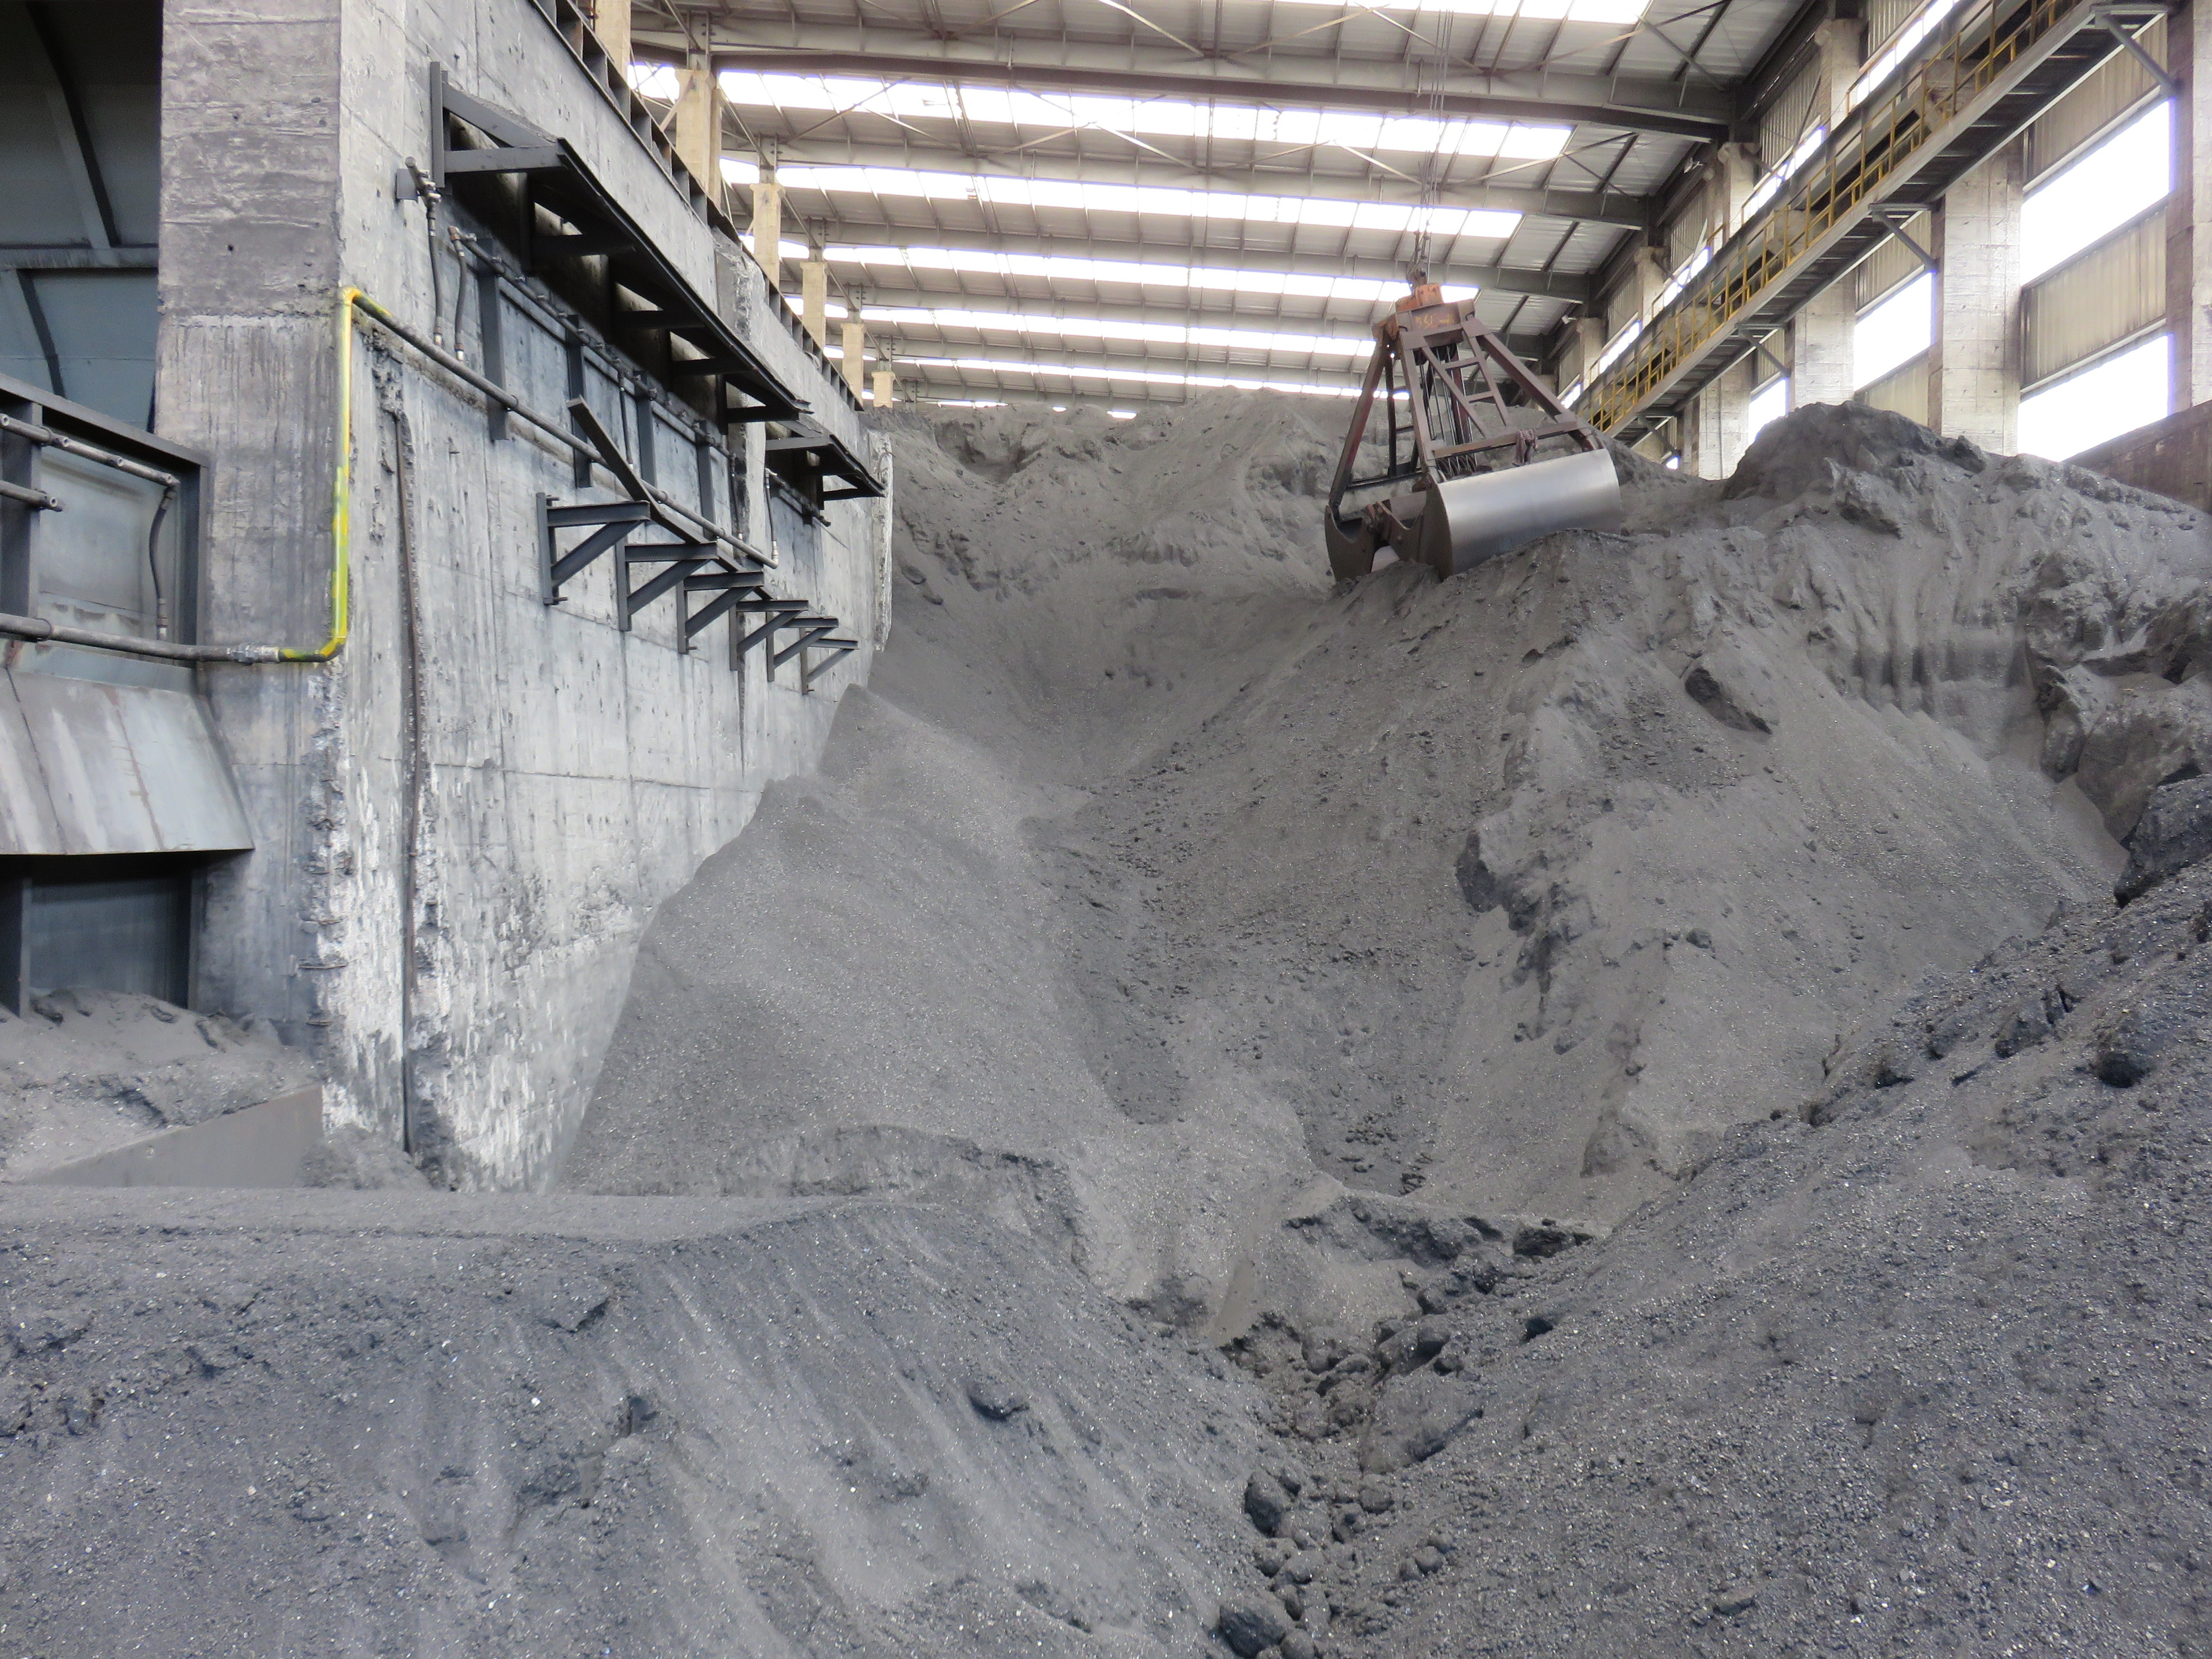grab: (1315, 265, 1632, 591)
